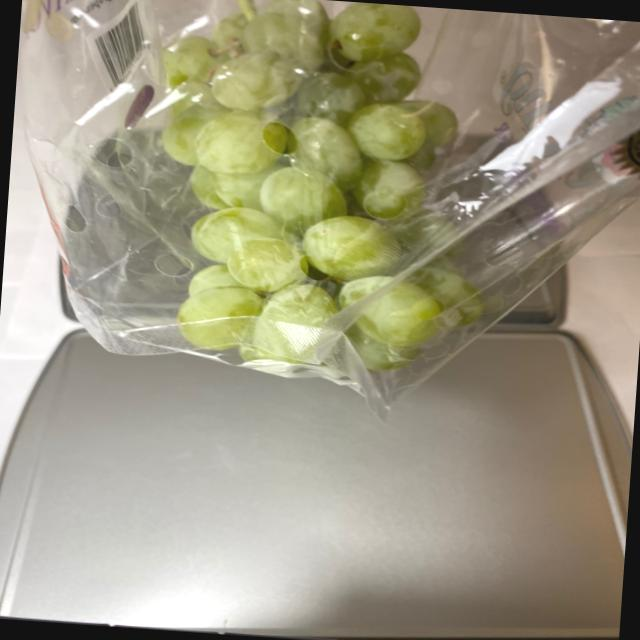grapes: (141, 0, 502, 357)
